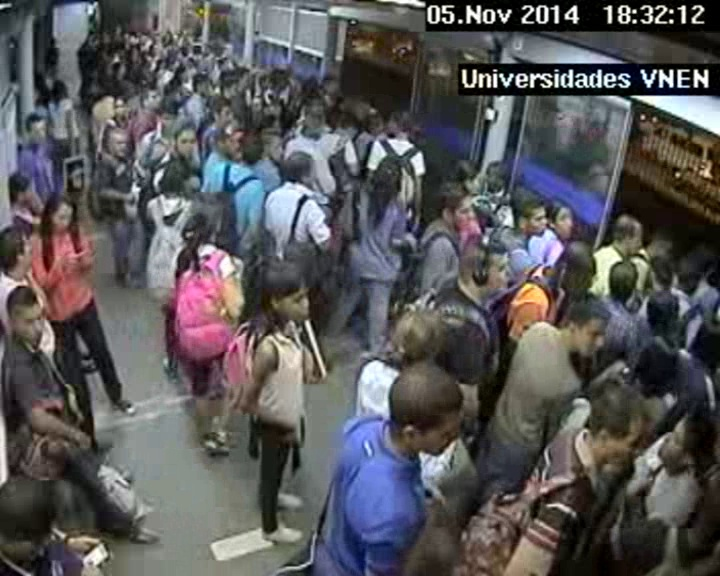person: (389, 365, 465, 463), (1, 475, 67, 562), (575, 391, 644, 462), (456, 236, 518, 301), (659, 409, 718, 471), (258, 262, 315, 325), (390, 307, 447, 366), (562, 303, 613, 360), (6, 288, 54, 347), (632, 337, 682, 393), (553, 241, 600, 299), (681, 314, 720, 365), (1, 225, 42, 272), (506, 193, 548, 238), (436, 188, 478, 232), (643, 291, 684, 336), (39, 193, 81, 233), (279, 149, 318, 189), (602, 258, 640, 298), (611, 215, 646, 256), (181, 213, 220, 249), (542, 200, 578, 239), (155, 158, 189, 193), (686, 243, 719, 279), (373, 156, 405, 192), (6, 174, 36, 207), (484, 160, 514, 193), (453, 159, 482, 193), (206, 99, 237, 128), (236, 134, 265, 165), (385, 108, 414, 138), (106, 127, 134, 158), (299, 103, 327, 134), (173, 125, 201, 156), (24, 113, 49, 143), (648, 230, 673, 260), (343, 94, 368, 123), (650, 257, 675, 285), (210, 129, 234, 158), (263, 131, 288, 158), (140, 88, 163, 115), (363, 114, 385, 139), (232, 67, 253, 93), (191, 73, 213, 96), (301, 76, 322, 99), (220, 78, 241, 100), (270, 63, 291, 84), (321, 74, 340, 97), (267, 100, 285, 120), (111, 99, 128, 117), (50, 79, 65, 97), (119, 81, 135, 97), (86, 67, 101, 83), (259, 74, 274, 90), (99, 32, 113, 46), (31, 73, 45, 87), (86, 33, 99, 47), (127, 48, 140, 62), (216, 58, 228, 71), (149, 44, 161, 56), (109, 43, 121, 55), (175, 68, 187, 80), (167, 102, 178, 114), (155, 59, 166, 70), (202, 43, 213, 54), (185, 58, 197, 68), (114, 22, 123, 33), (162, 31, 171, 41), (192, 44, 201, 54), (142, 29, 151, 38), (179, 47, 187, 57), (48, 37, 56, 46), (130, 29, 139, 37), (176, 30, 184, 38)
